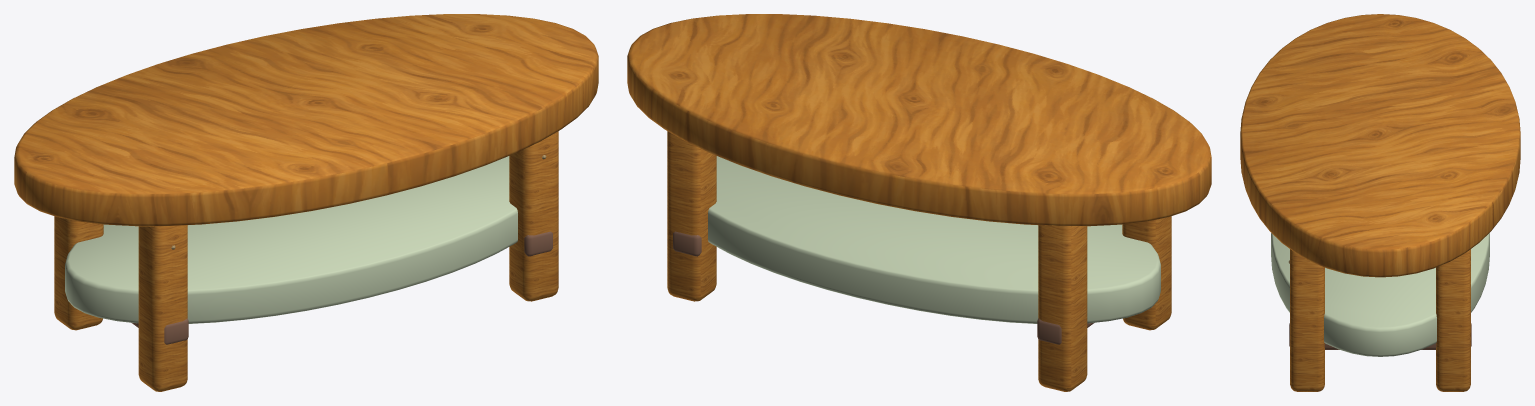
File: oval-coffee-table.glb
The picture shows the model from 3 angles, left to right: view 1: azimuth 30°, elevation 25°; view 2: azimuth 150°, elevation 25°; view 3: azimuth 270°, elevation 25°; orthographic projection. The views are drawn at different scales.
Parts seen in each view (by area): view 1: oval-coffee-table; view 2: oval-coffee-table; view 3: oval-coffee-table.
Boxes of the visible parts, x1=… form: oval-coffee-table: x1=14, y1=14, x2=598, y2=391; oval-coffee-table: x1=627, y1=14, x2=1211, y2=391; oval-coffee-table: x1=1240, y1=14, x2=1520, y2=391.
Size of the model in its own units: 1.2 by 0.42 by 0.6.
4 materials, 1 textured.
